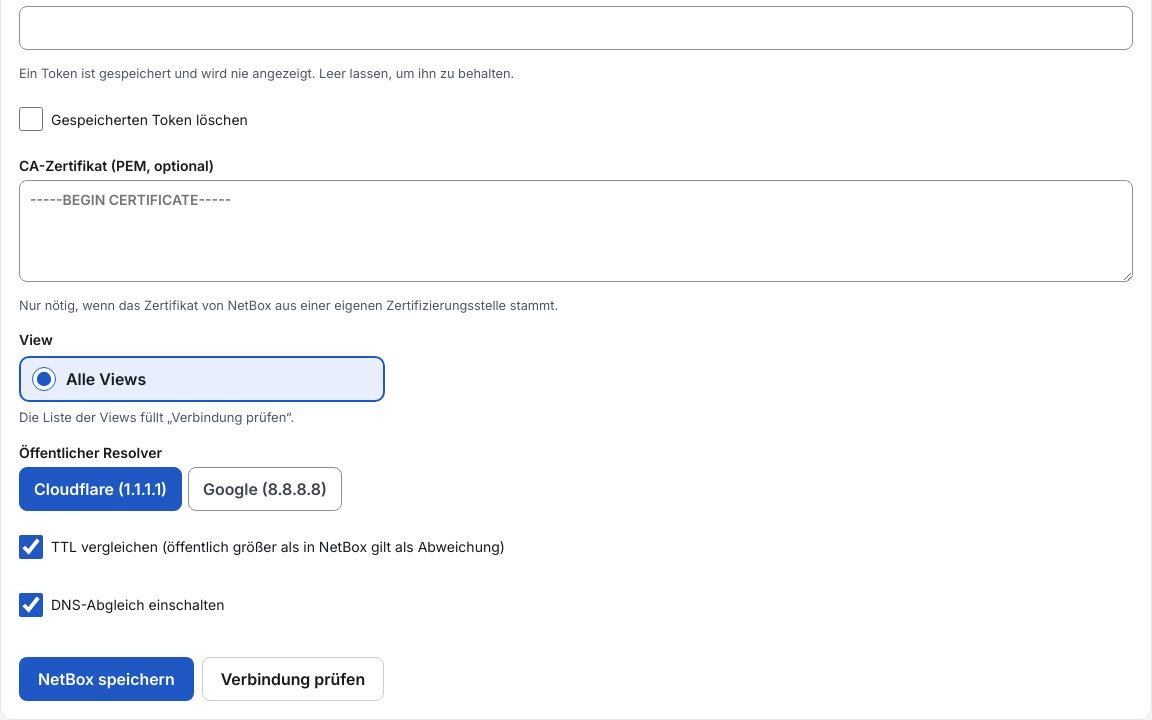
Test: NetboxSettings › prüft die Verbindung und bietet danach die Views an
The image size is (1152, 720).
(page scrolled)
Click the button "Verbindung prüfen". click: point(293, 679)
box: x1=202 y1=657 x2=384 y2=701
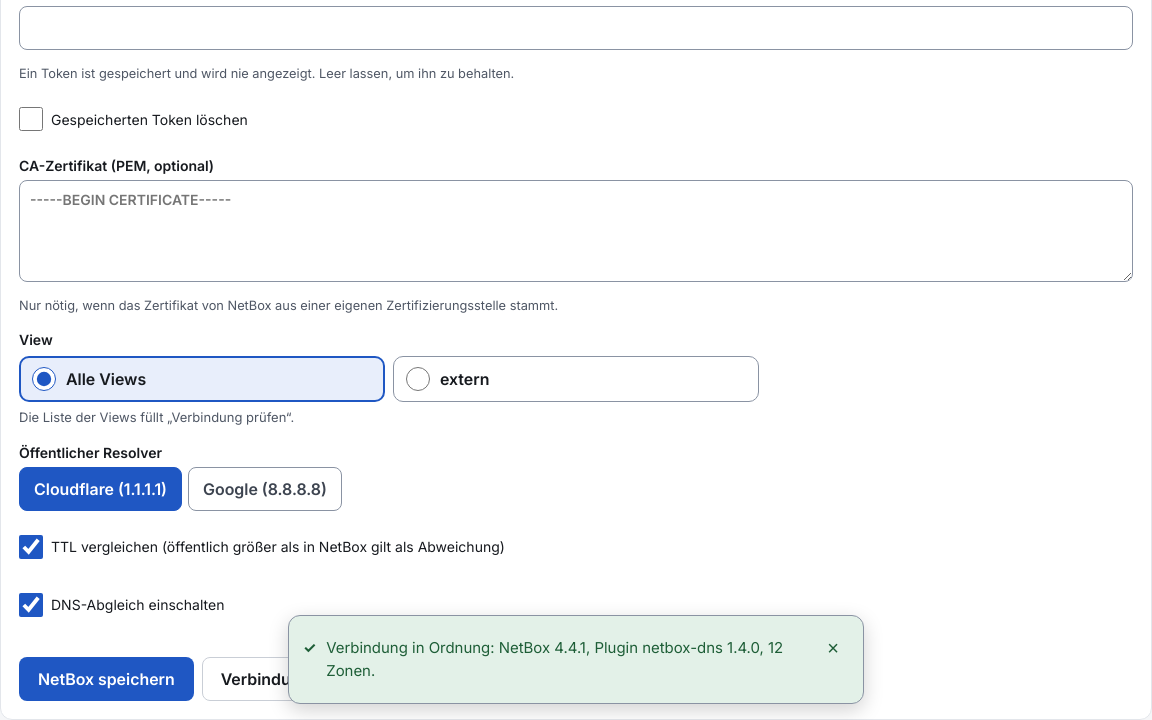
Check: the message shows "NetBox 4.4.1", box x1=326 y1=638 x2=783 y2=680
Check: the radio button labelled "extern" is shown, box x1=406 y1=367 x2=430 y2=391
